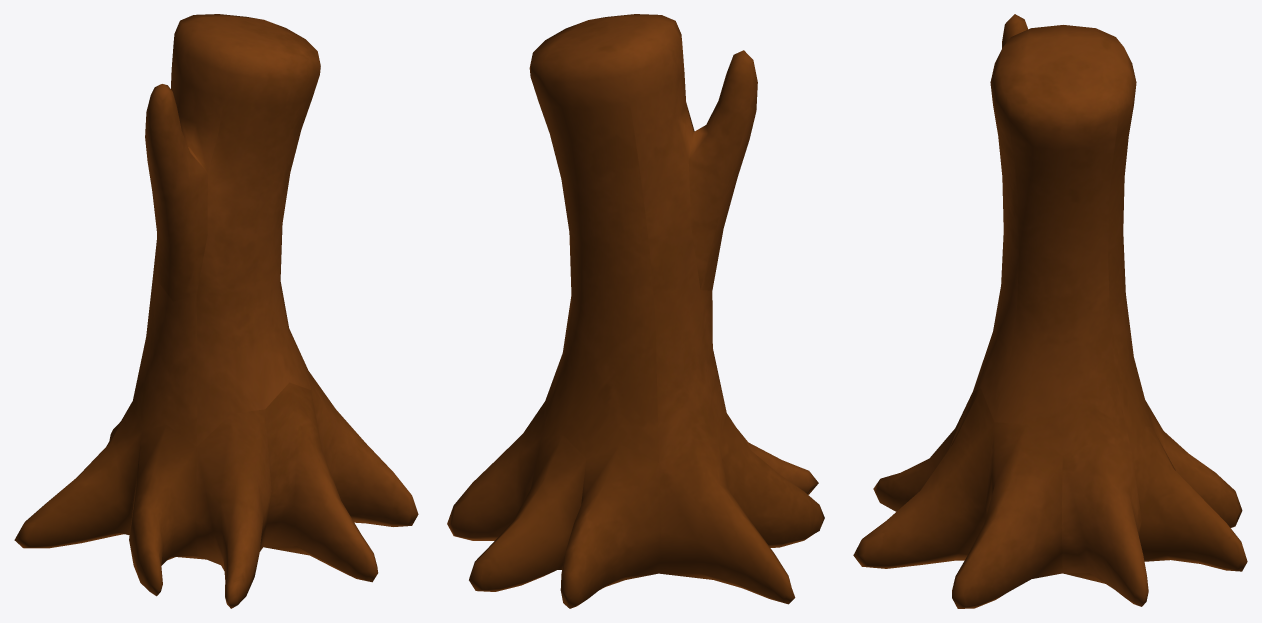
The model's file is agac_1.fbx.
3 views of the same model, side by side, from view 1: azimuth 30°, elevation 25°; view 2: azimuth 150°, elevation 25°; view 3: azimuth 270°, elevation 25° (orthographic). The views are drawn at different scales.
Visible parts, largest first — view 1: agac_1; view 2: agac_1; view 3: agac_1.
Part boxes in pixels (box(x1,y1,x2,y2)): agac_1: box(14, 14, 418, 608); agac_1: box(447, 14, 824, 608); agac_1: box(853, 14, 1247, 608).
Size of the model in its own units: 164 by 242 by 169.
Materials: 1 (1 with a texture image).
